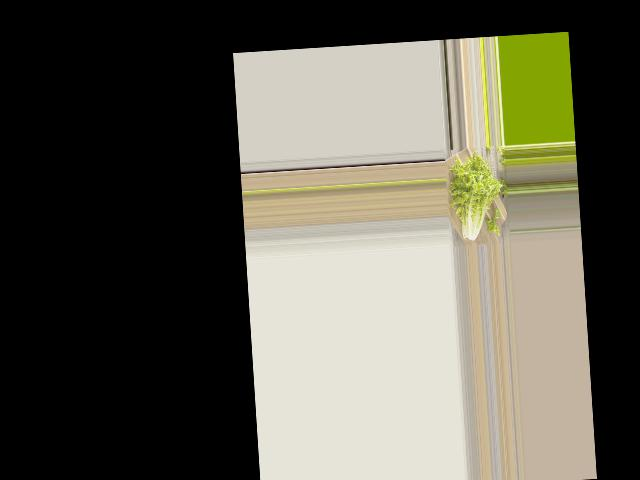lettuce: (447, 154, 504, 246)
